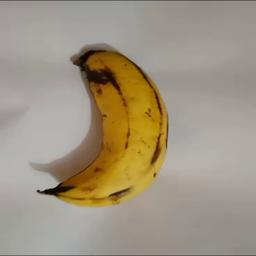Banana Semifresh: (37, 47, 173, 207)
